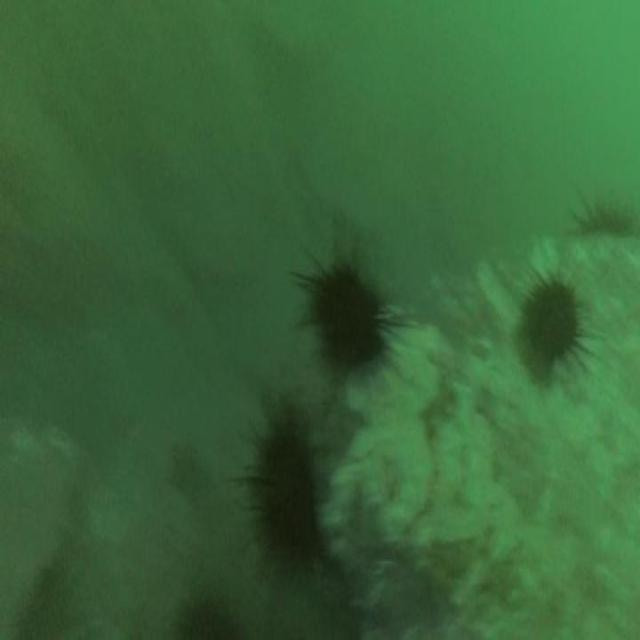echinus: (250, 425, 318, 574), (312, 264, 382, 367), (522, 274, 578, 364)
